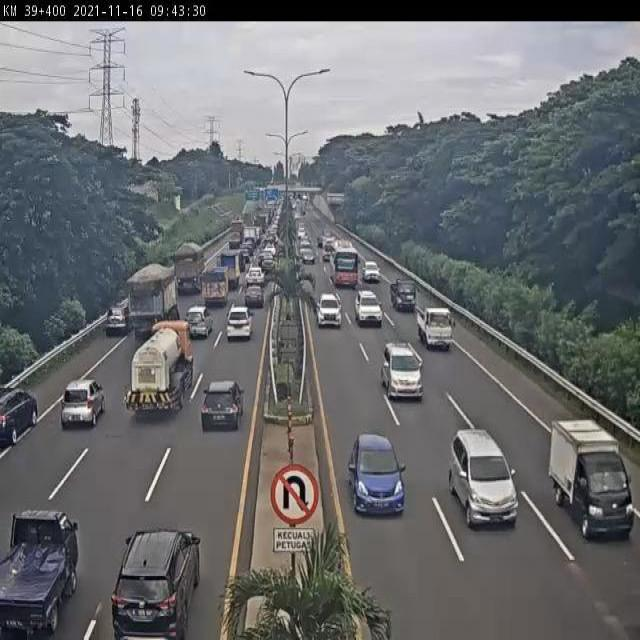big bus: (328, 240, 359, 288)
car: (1, 508, 81, 640), (106, 530, 199, 640), (449, 426, 521, 530), (350, 433, 405, 519), (383, 340, 424, 404), (61, 379, 105, 428), (202, 382, 244, 429), (179, 305, 213, 340), (353, 288, 383, 325), (104, 305, 132, 339), (227, 310, 252, 346), (317, 296, 340, 325), (244, 281, 266, 311), (362, 260, 381, 284)
small truck: (549, 419, 633, 541), (415, 301, 456, 352), (199, 265, 228, 311), (391, 275, 418, 313)
truck-l-: (125, 260, 178, 341), (170, 244, 205, 297)
truck-m-: (125, 319, 195, 417)
